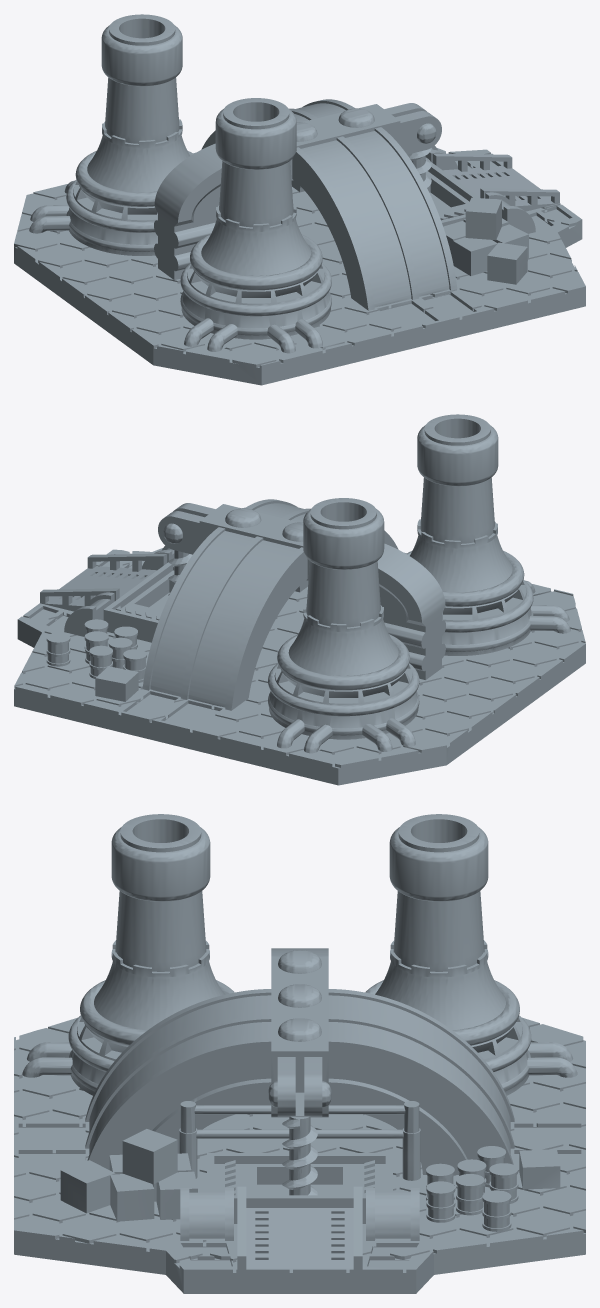
Rendered from allied-ore-refinery.glb.
3 renders of one model, top to bottom at view 1: azimuth 30°, elevation 25°; view 2: azimuth 150°, elevation 25°; view 3: azimuth 270°, elevation 25°, orthographic. The views are drawn at different scales.
Parts seen in each view (by area): view 1: allied-ore-refinery-twin-separator-towers, allied-ore-refinery-foundation-and-service-apron, allied-ore-refinery-processing-hall, allied-ore-refinery-ore-unloading-/-transfer-assembly; view 2: allied-ore-refinery-twin-separator-towers, allied-ore-refinery-foundation-and-service-apron, allied-ore-refinery-processing-hall, allied-ore-refinery-ore-unloading-/-transfer-assembly; view 3: allied-ore-refinery-foundation-and-service-apron, allied-ore-refinery-processing-hall, allied-ore-refinery-twin-separator-towers, allied-ore-refinery-ore-unloading-/-transfer-assembly.
Part boxes in pixels (x1,y1,x2,y2): allied-ore-refinery-twin-separator-towers: (29, 14, 331, 352); allied-ore-refinery-foundation-and-service-apron: (14, 148, 585, 385); allied-ore-refinery-processing-hall: (154, 99, 457, 310); allied-ore-refinery-ore-unloading-/-transfer-assembly: (425, 145, 559, 233); allied-ore-refinery-twin-separator-towers: (268, 414, 570, 752); allied-ore-refinery-foundation-and-service-apron: (14, 507, 585, 785); allied-ore-refinery-processing-hall: (142, 499, 445, 710); allied-ore-refinery-ore-unloading-/-transfer-assembly: (40, 545, 174, 642); allied-ore-refinery-foundation-and-service-apron: (14, 1017, 585, 1293); allied-ore-refinery-processing-hall: (85, 948, 514, 1195); allied-ore-refinery-twin-separator-towers: (22, 814, 577, 1095); allied-ore-refinery-ore-unloading-/-transfer-assembly: (180, 1153, 419, 1269).
Size of the model in its own units: 1 by 0.4577 by 0.9014.
